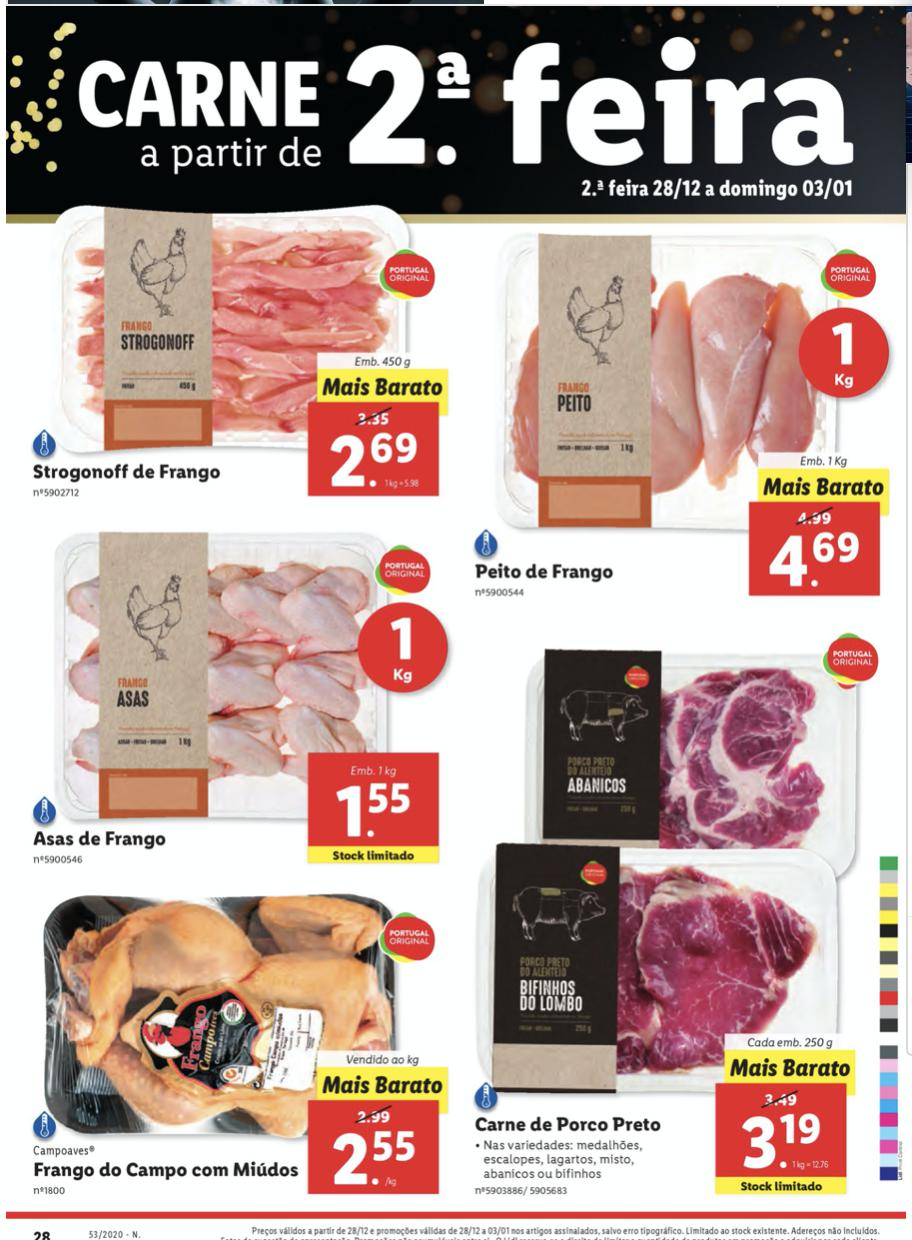name: (30, 1158, 302, 1182), (31, 459, 227, 488), (471, 1115, 668, 1136), (470, 558, 619, 585), (28, 827, 168, 851)
price: (327, 427, 424, 496), (764, 528, 867, 590), (740, 1108, 831, 1175), (327, 1127, 420, 1191), (334, 779, 414, 842)
product: (451, 610, 887, 1201), (460, 225, 887, 610), (17, 519, 456, 879), (17, 879, 451, 1201), (17, 202, 454, 507)
